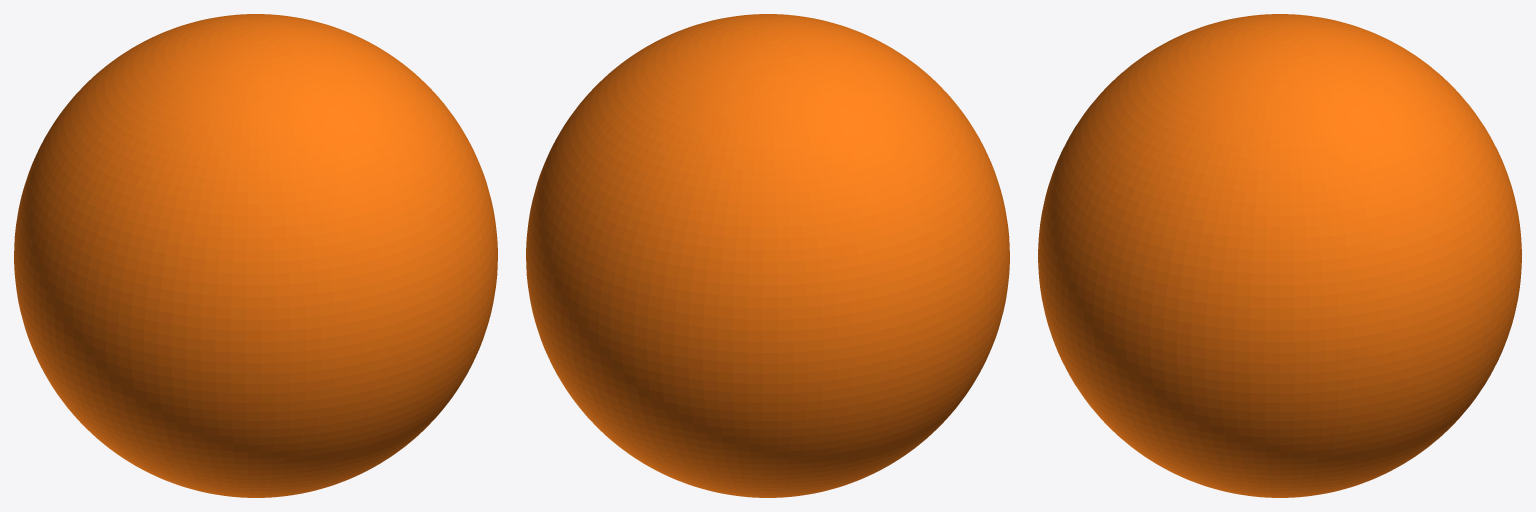
Rendered from Planet.obj.
The picture shows the model from 3 angles, left to right: view 1: azimuth 30°, elevation 25°; view 2: azimuth 150°, elevation 25°; view 3: azimuth 270°, elevation 25°; orthographic projection.
Visible parts, largest first — view 1: Sphere_Sphere.003; view 2: Sphere_Sphere.003; view 3: Sphere_Sphere.003.
Boxes of the visible parts, x1,y1,x2,y2 form: Sphere_Sphere.003: (14,14,497,497); Sphere_Sphere.003: (526,14,1009,497); Sphere_Sphere.003: (1038,14,1521,497).
Bounding box in the file's own units: 23.89 × 23.89 × 23.89.
Materials: 1 (1 with a texture image).
